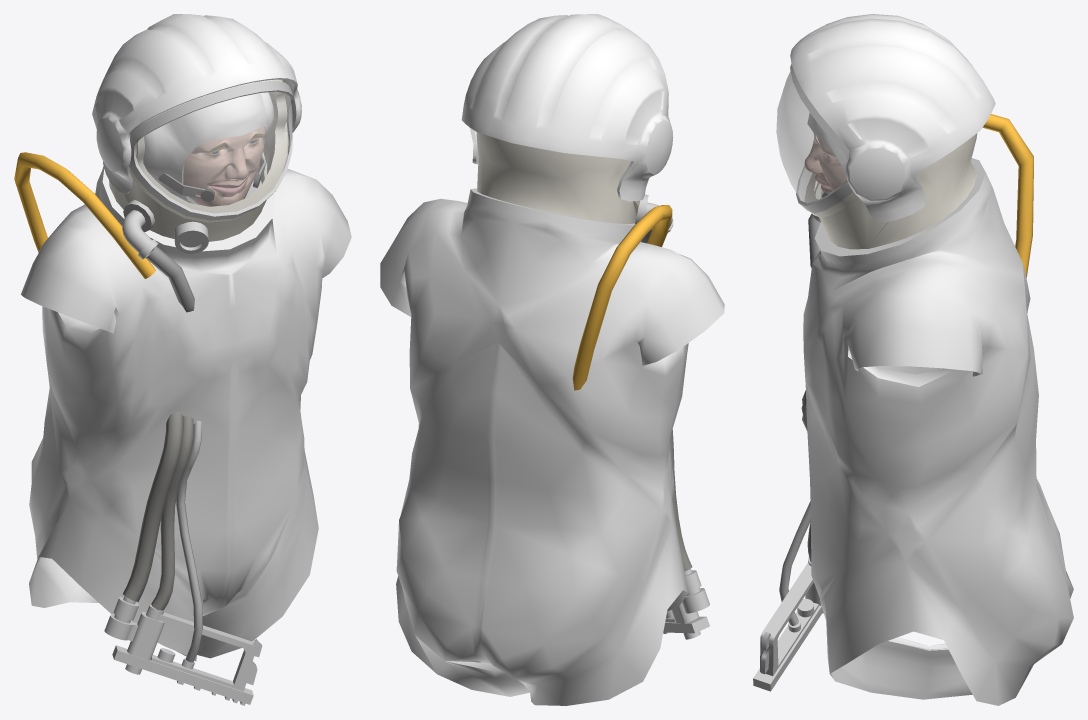
The model's file is personajeTorso.fbx.
The picture shows the model from 3 angles, left to right: view 1: azimuth 30°, elevation 25°; view 2: azimuth 150°, elevation 25°; view 3: azimuth 270°, elevation 25°; orthographic projection. The views are drawn at different scales.
Visible parts, largest first — view 1: skpVsGBRJ_001; view 2: skpVsGBRJ_001; view 3: skpVsGBRJ_001.
Boxes of the visible parts, x1,y1,x2,y2 form: skpVsGBRJ_001: (14, 14, 351, 705); skpVsGBRJ_001: (380, 14, 724, 705); skpVsGBRJ_001: (753, 14, 1073, 705).
Size of the model in its own units: 61.53 by 119 by 51.23.
